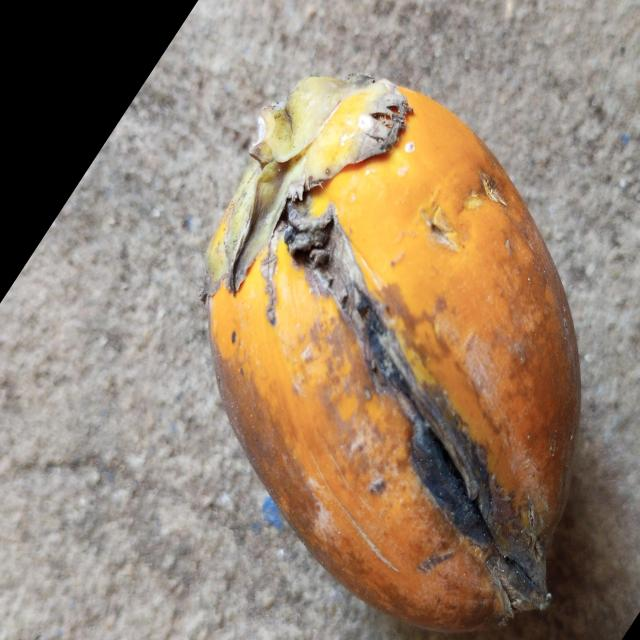damaged: (206, 76, 583, 637)
